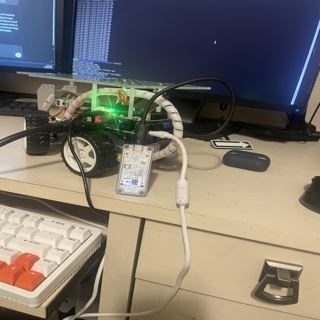vehicle: (15, 64, 211, 179)
